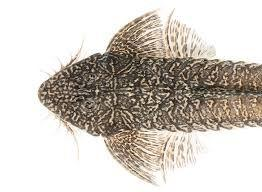Janitor Fish: (33, 7, 262, 187)
